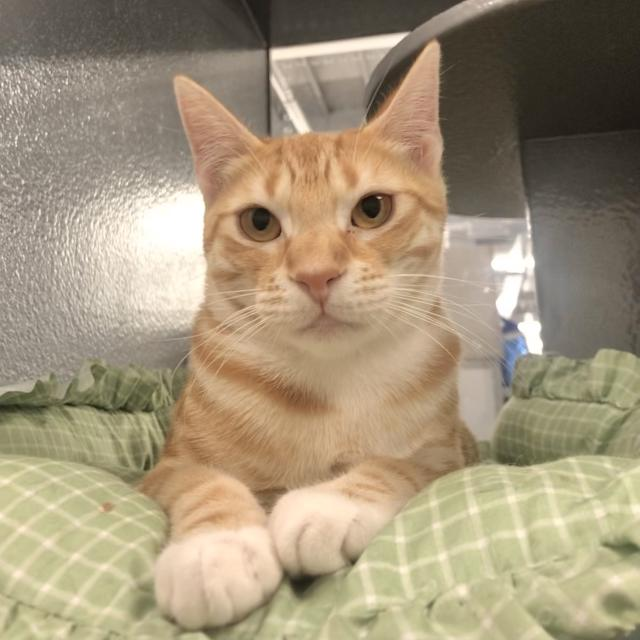american_shorthair_cat: (170, 33, 453, 366)
